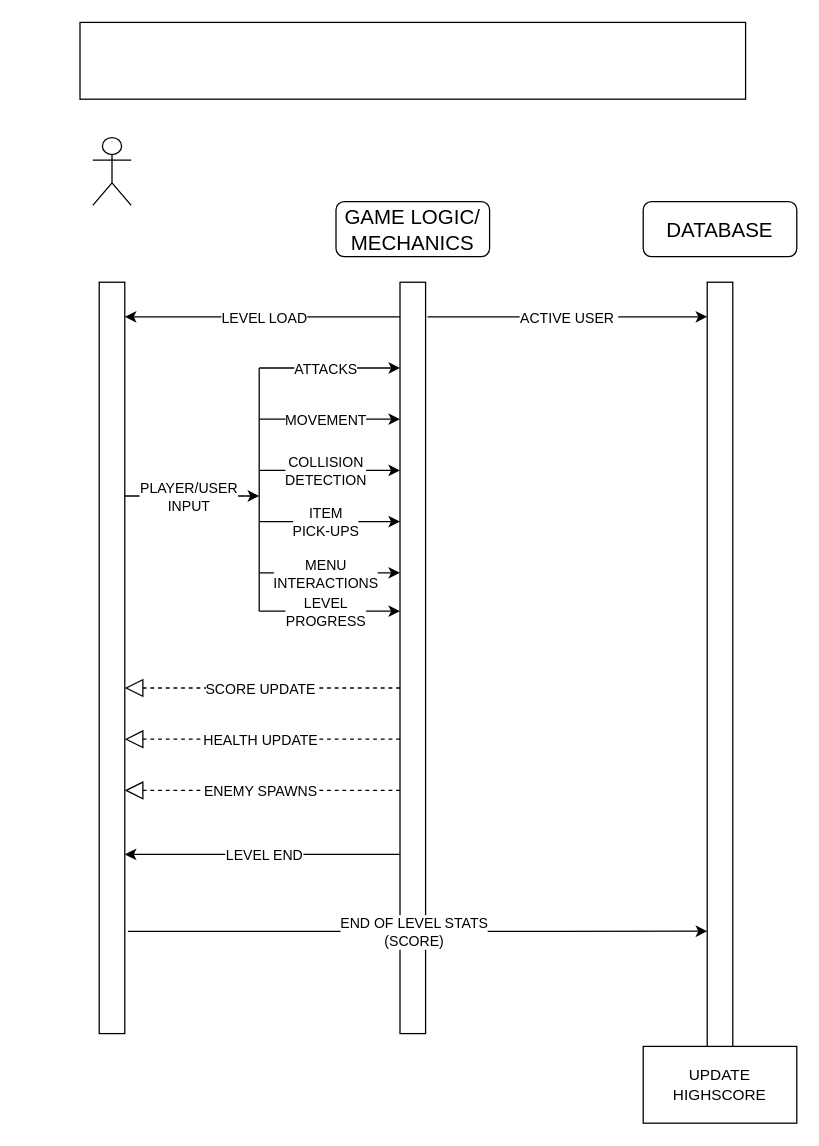
This 819x1146 diagram has some shape labels left out. The shapes that lost their labels are listed below. From the top down, each one's centre as x and y in pixels, then its label:
At (x=412, y=60): "LEVEL SEQUENCE DIAGRAM".
At (x=111, y=170): "Player Character: NINJA".
